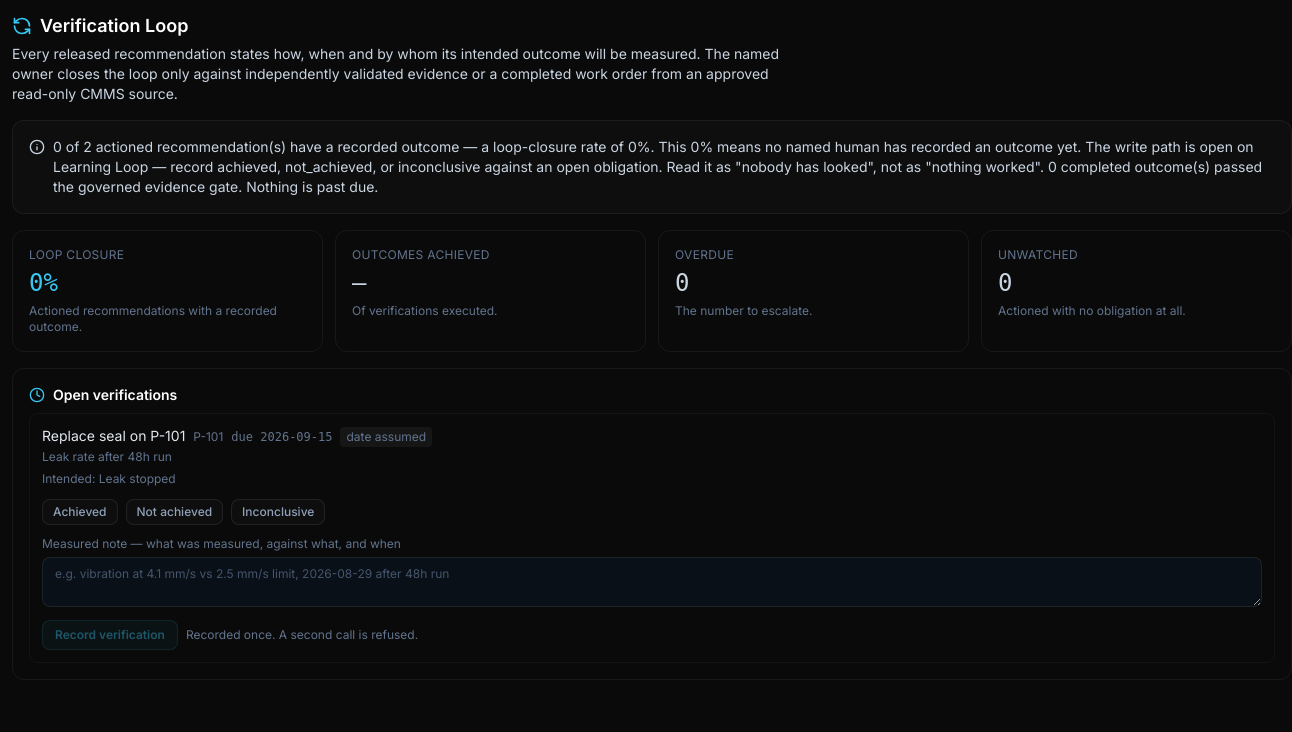
Scenario: VerificationLoop — named-human recorder › records not_achieved with the measured note through the service wrapper
Expected: the text "Replace seal on P-101" is shown, [42,426,185,446]
Click the radio button labelled "Not achieved": x=174, y=512 [126,498,223,524]
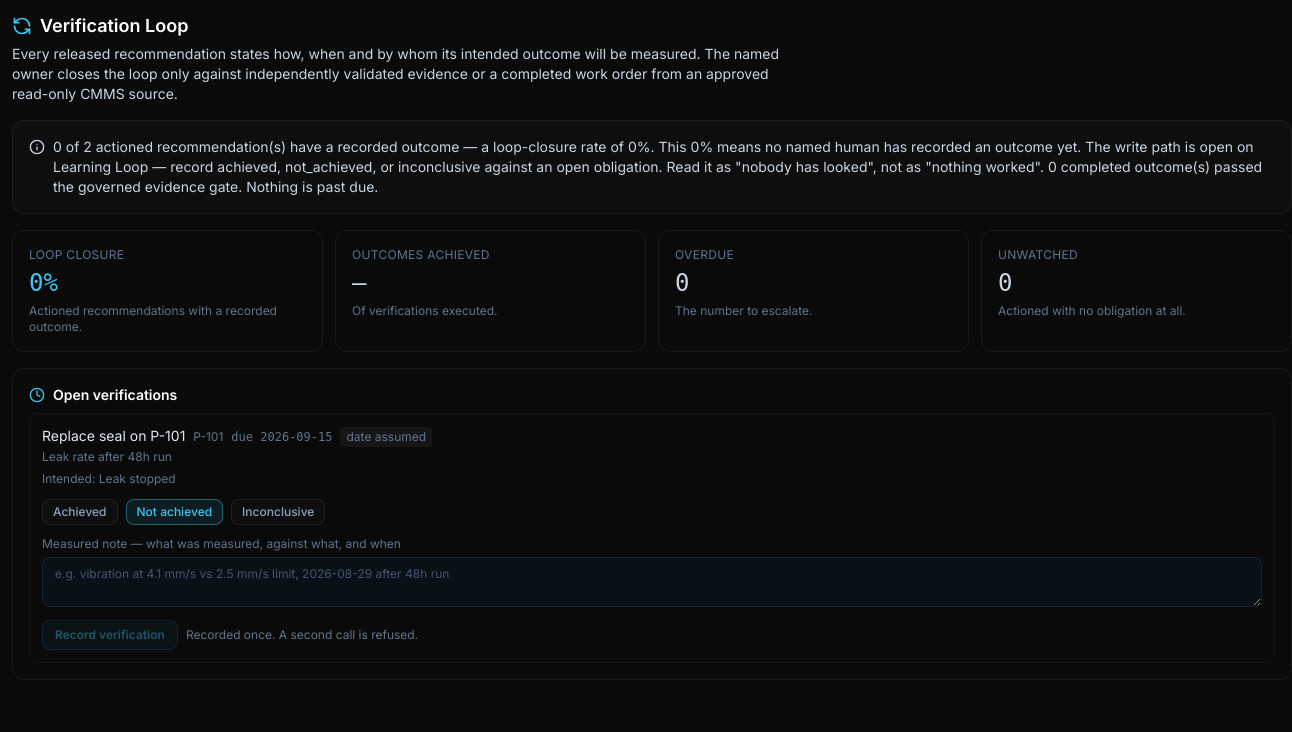
Replace the text in the text box with placeholder "vibration at 4.1 mm/s" with "leak rate unchanged at 4 drops/min after seal change": x=652, y=582 [42,556,1262,606]
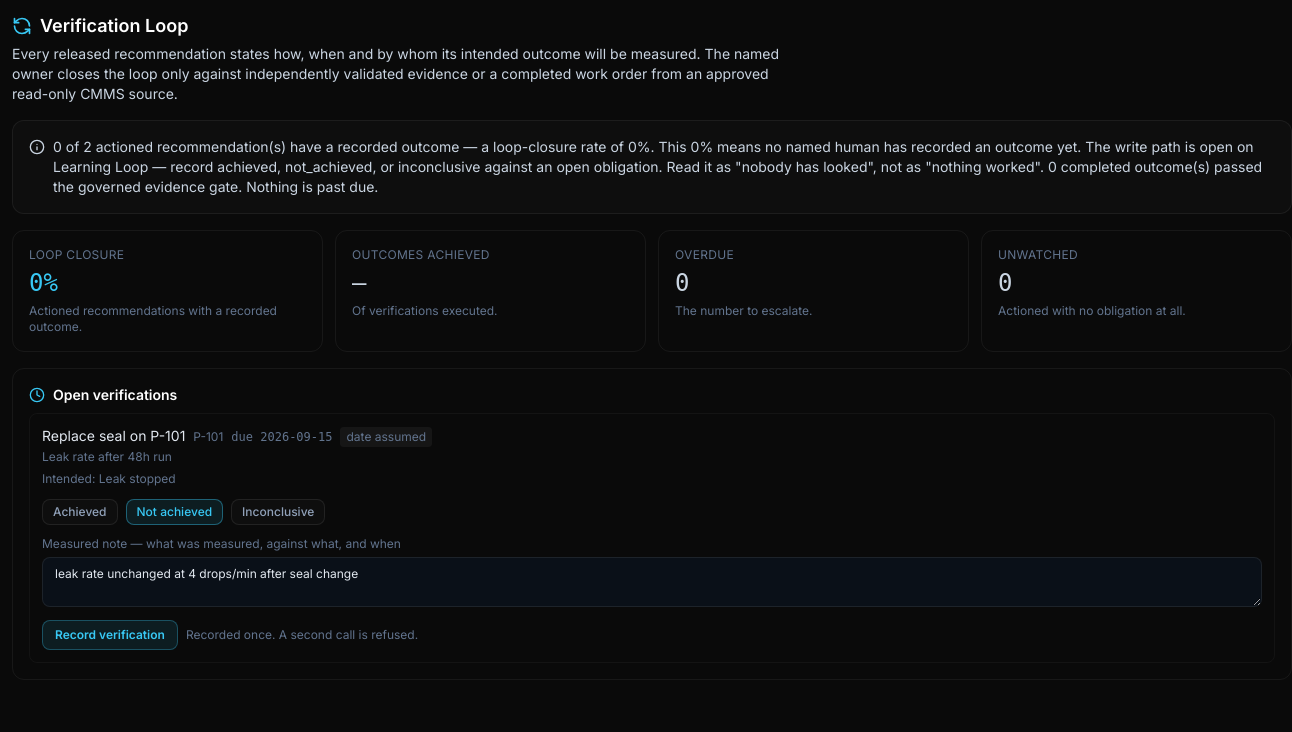
Click the button "Record verification": x=110, y=634 [42,620,178,650]
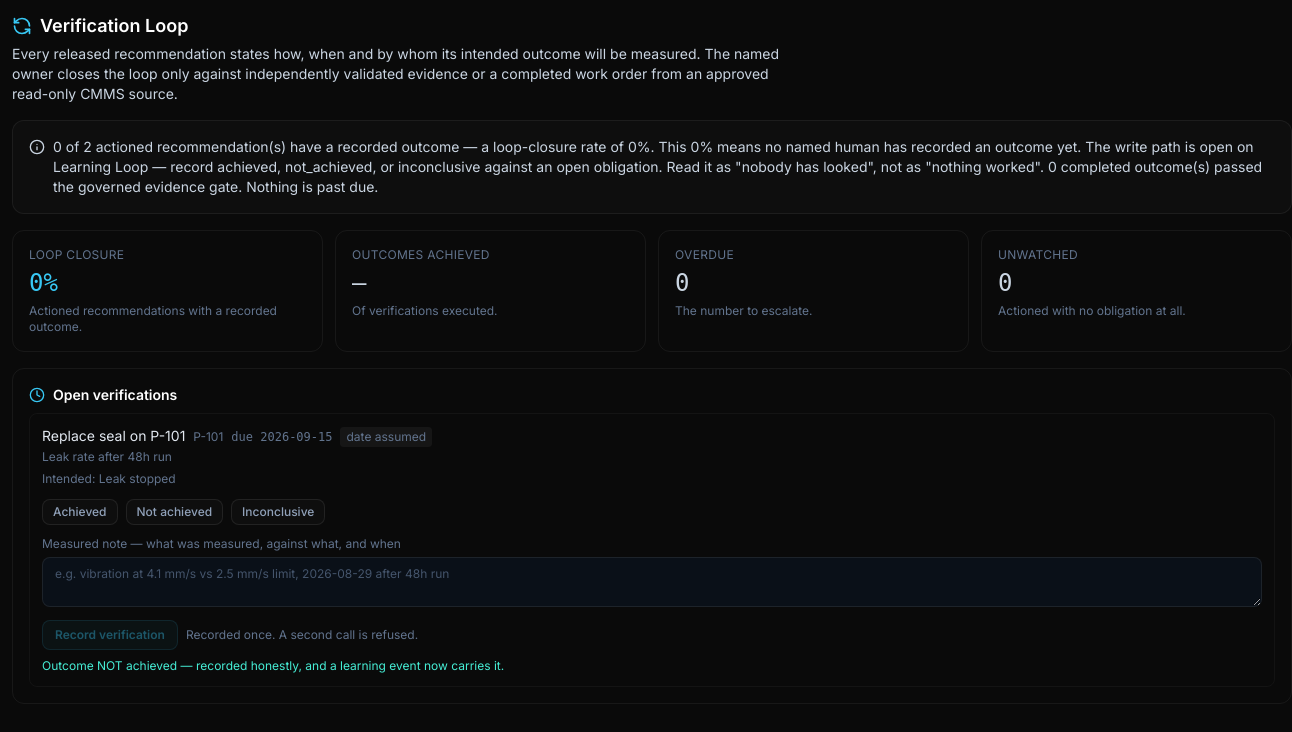
Result: the text "Outcome NOT achieved — recorded honestly, and a learning event now carries it." is shown at [42,658,504,672]
